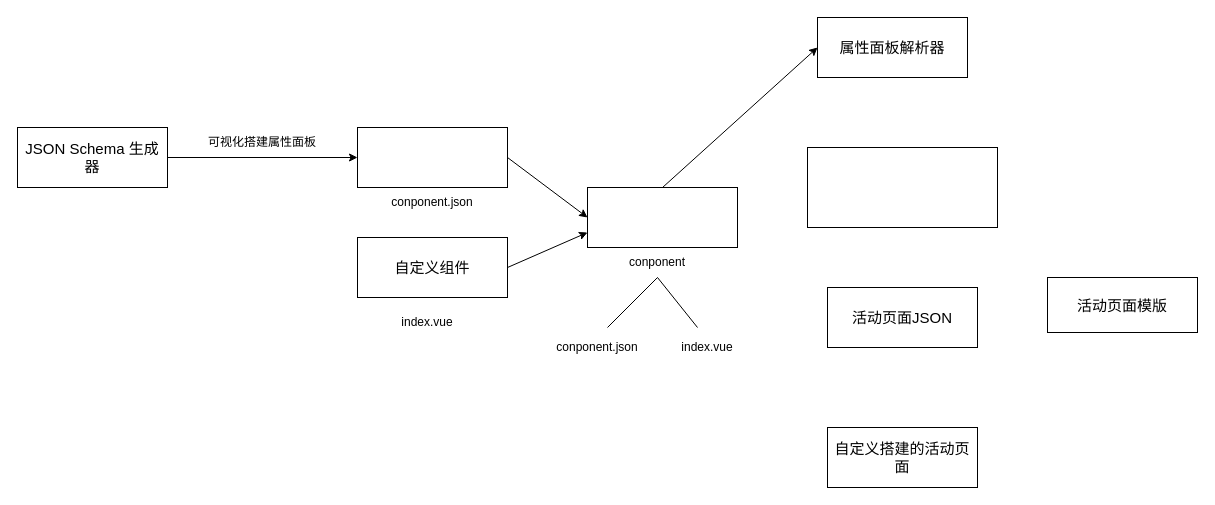
This 1215x505 diagram has some shape labels left out. The box of each missing label's shape, as (x1, y1, x2, y2) in pixels:
可视化面板(活动设计页面): (806, 146, 998, 228)
平台标准物料组件: (586, 186, 738, 248)
组件属性JSON: (356, 126, 508, 188)
